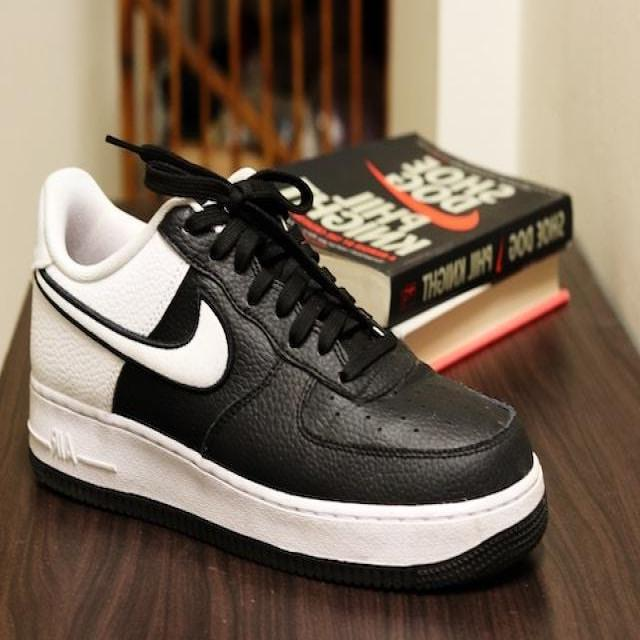nike: (39, 272, 238, 401)
